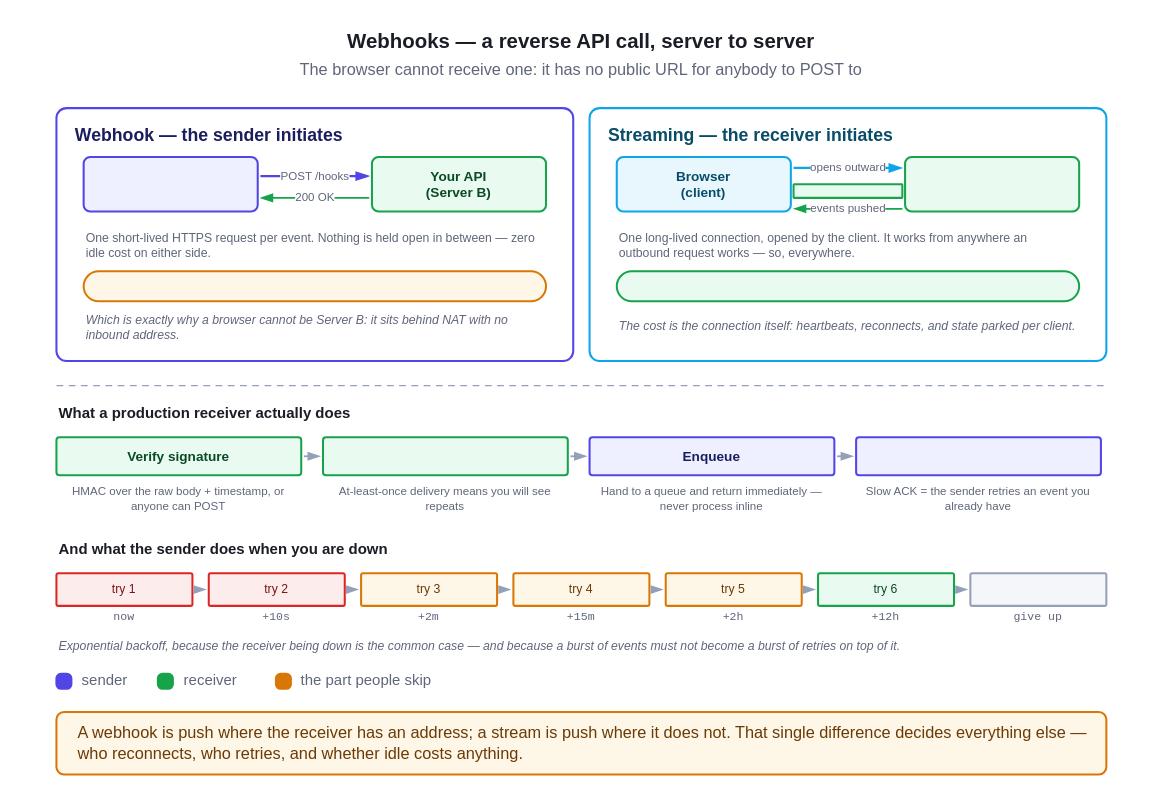
This 1161x798 diagram has some shape labels left out. Each missing label, with the centre of its shape:
200 fast: point (977, 456)
dead letter: point (1038, 589)
Dedupe on event id: point (444, 456)
Nothing needs a public address: point (847, 286)
Server B must be publicly reachable: point (314, 286)
Stripe (Server A): point (170, 183)
Your API (server): point (991, 183)
